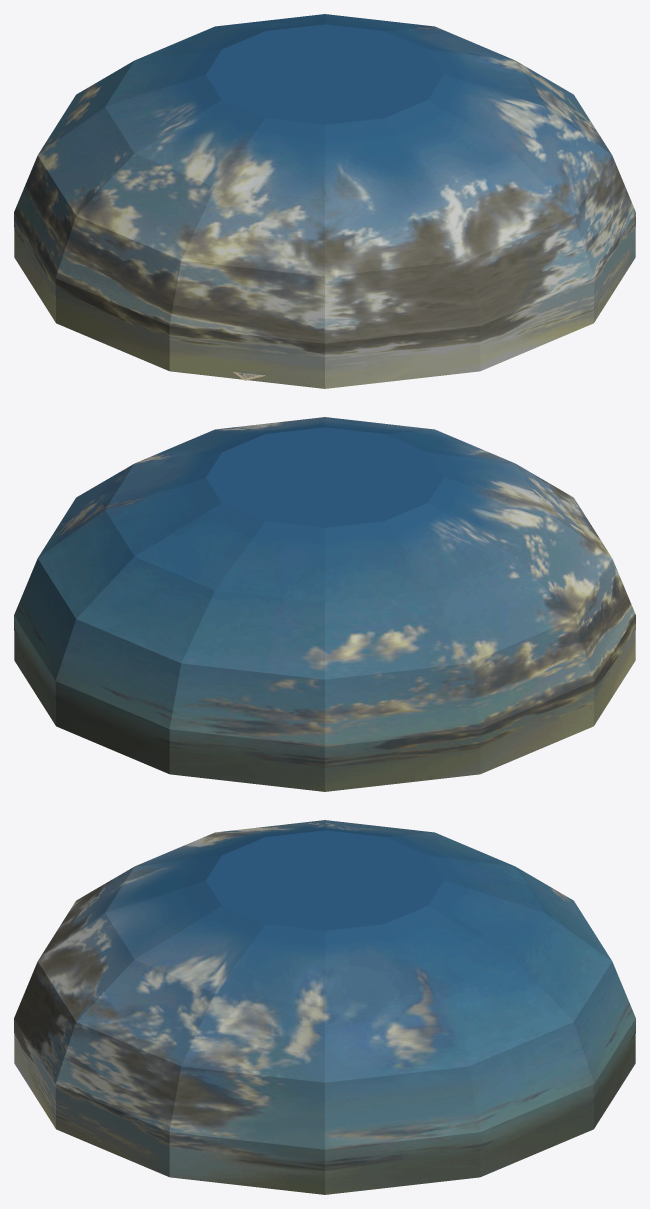
The model's file is recovered_map_mp71.glb.
3 renders of one model, top to bottom at view 1: azimuth 30°, elevation 25°; view 2: azimuth 150°, elevation 25°; view 3: azimuth 270°, elevation 25°, orthographic.
Visible parts, largest first — view 1: S_congo4s_sky01; view 2: S_congo4s_sky01; view 3: S_congo4s_sky01.
Part boxes in pixels (left/top/right/bottom): S_congo4s_sky01: left=14, top=14, right=635, bottom=388; S_congo4s_sky01: left=14, top=417, right=635, bottom=791; S_congo4s_sky01: left=14, top=820, right=635, bottom=1194.
Size of what is drawn, in the model's own units: 318 by 105 by 318.
47 materials, 47 textured.
